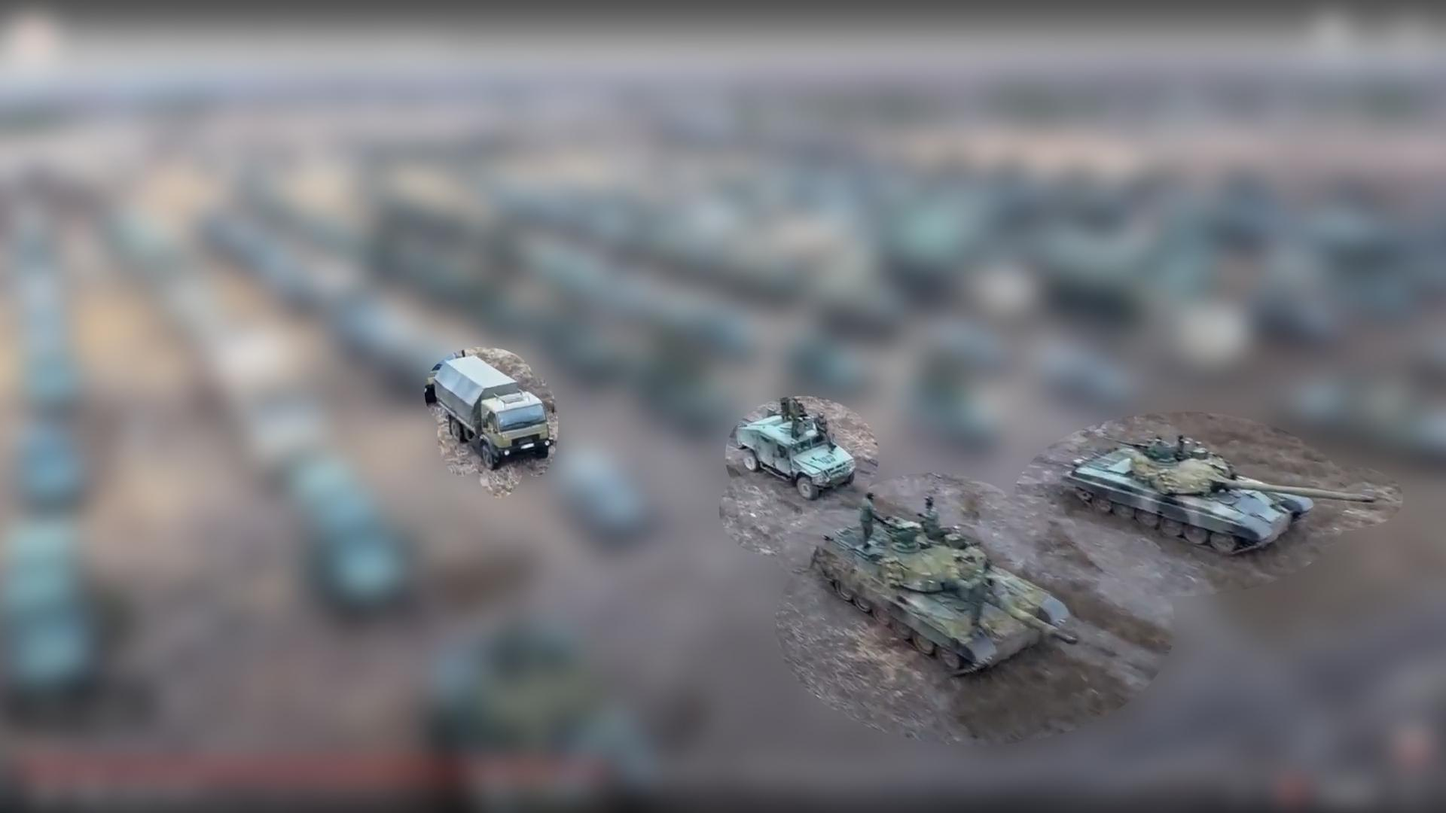armored_car: (732, 399, 860, 501)
tank: (804, 516, 1079, 683), (1057, 436, 1381, 557)
truck: (429, 353, 551, 468)
